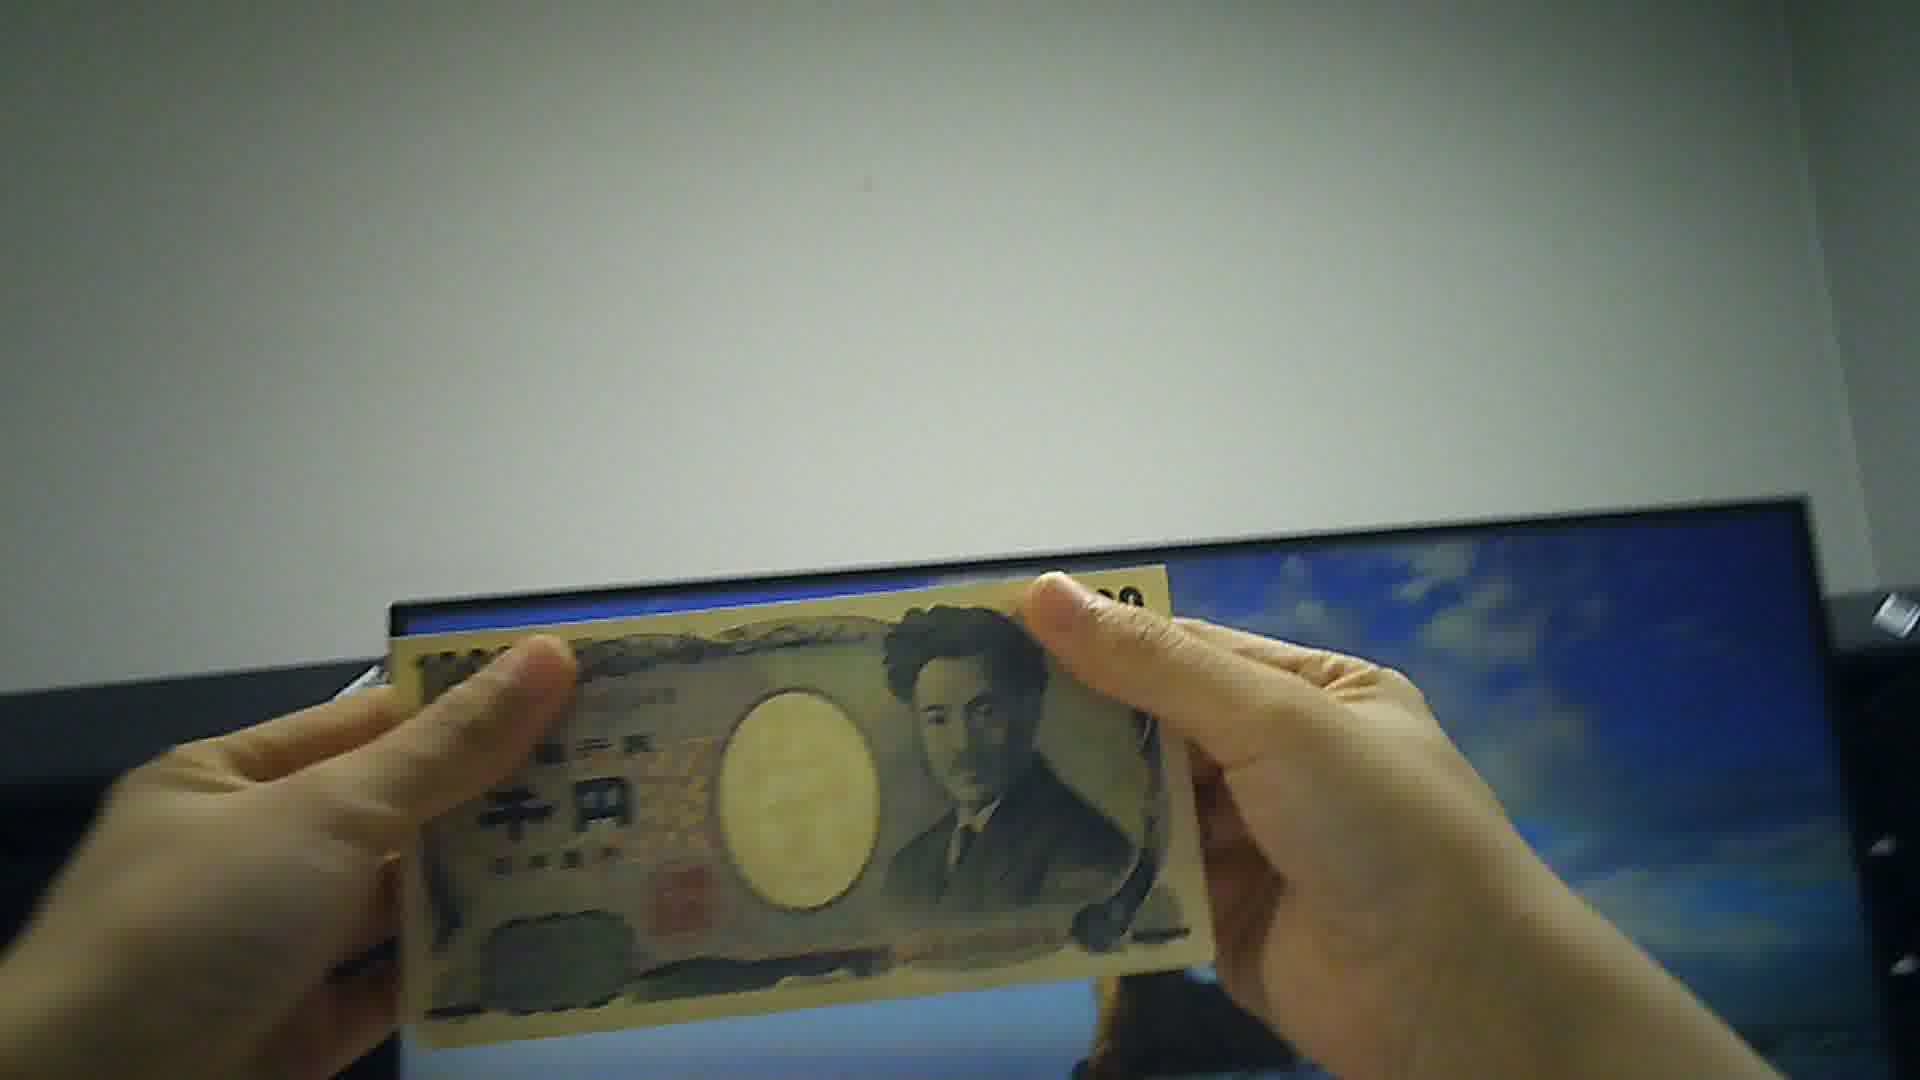1,000 Yen: (378, 556, 1244, 1048)
